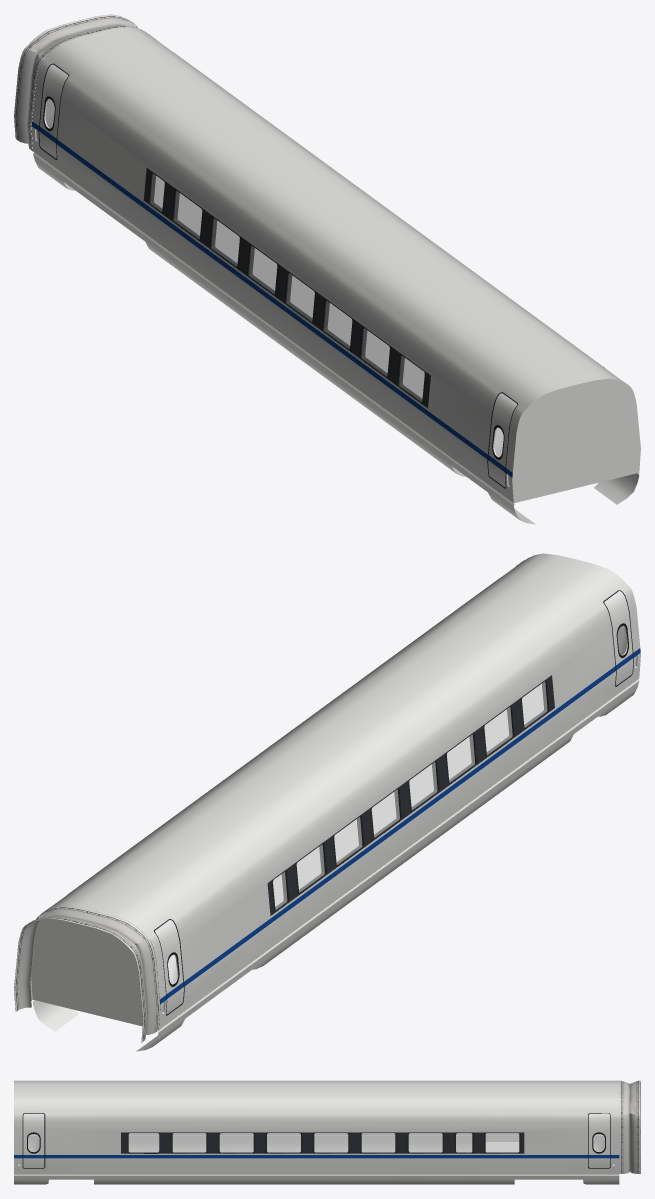
The picture shows the model from 3 angles, top to bottom: view 1: azimuth 30°, elevation 25°; view 2: azimuth 150°, elevation 25°; view 3: azimuth 270°, elevation 25°; orthographic projection. The views are drawn at different scales.
Visible parts, largest first — view 1: crh3_5hcxwk, crh3_2hcxbl002, crh3_gdwk010; view 2: crh3_5hcxwk, crh3_2hcxbl002, crh3_gdwk010; view 3: crh3_5hcxwk, crh3_2hcxbl002, crh3_gdwk010.
Boxes of the visible parts, left/top/right/bottom form: crh3_5hcxwk: left=31, top=27, right=640, bottom=524; crh3_2hcxbl002: left=150, top=173, right=424, bottom=401; crh3_gdwk010: left=14, top=14, right=147, bottom=151; crh3_5hcxwk: left=31, top=553, right=640, bottom=1051; crh3_2hcxbl002: left=273, top=681, right=547, bottom=909; crh3_gdwk010: left=14, top=905, right=160, bottom=1042; crh3_5hcxwk: left=14, top=1080, right=619, bottom=1184; crh3_2hcxbl002: left=128, top=1133, right=519, bottom=1152; crh3_gdwk010: left=619, top=1080, right=640, bottom=1173.
Size of the model in its own units: 383 by 368 by 2554.
